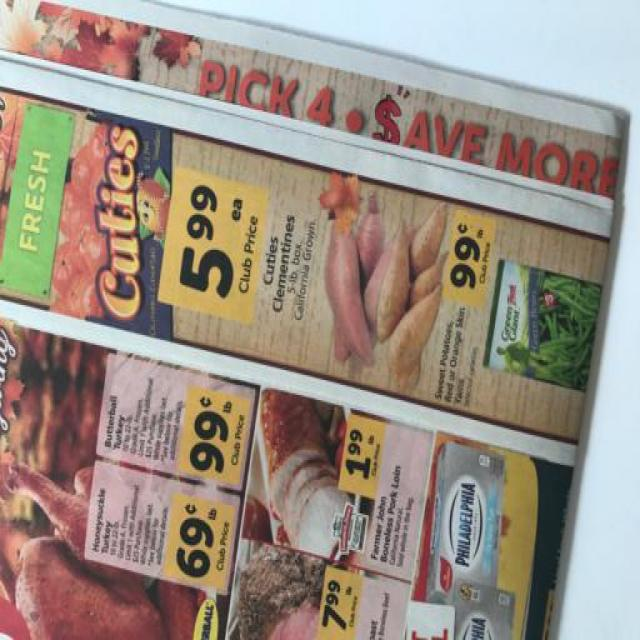paper: (1, 1, 633, 640)
